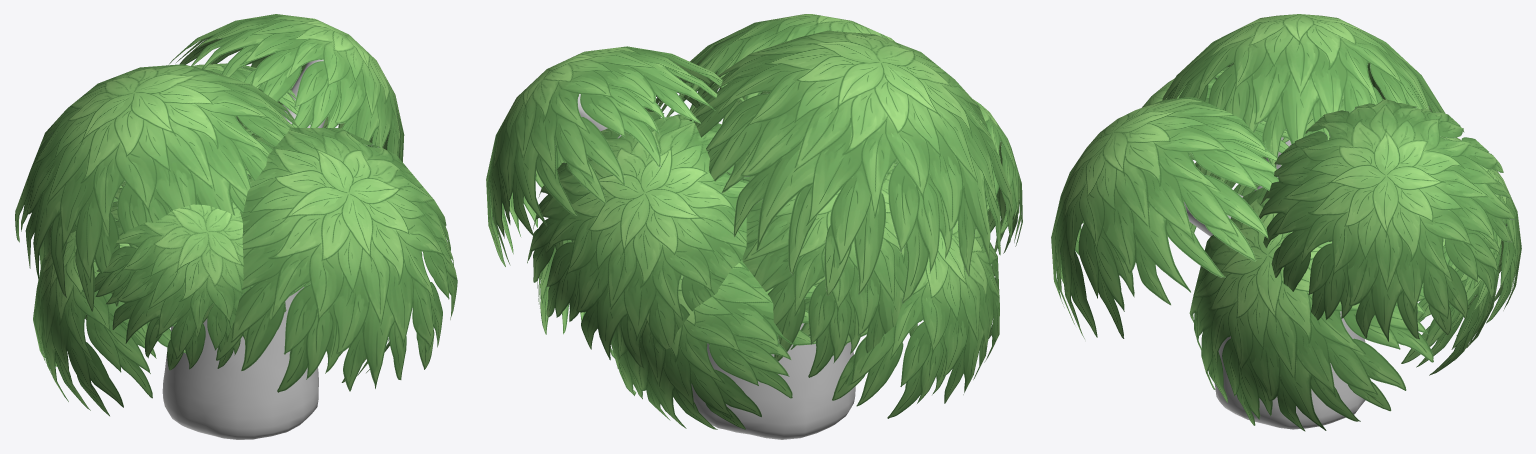
File: Bush_FULL_Model_v001.fbx
3 views of the same model, side by side, from view 1: azimuth 30°, elevation 25°; view 2: azimuth 150°, elevation 25°; view 3: azimuth 270°, elevation 25° (orthographic). The views are drawn at different scales.
Visible parts, largest first — view 1: BushLeaves3, BushLeaves1, BushLeaves4, BushLeaves2, BushTrunk, BushLeaves8, BushLeaves6; view 2: BushLeaves1, BushLeaves6, BushLeaves2, BushLeaves9, BushLeaves8, BushLeaves5, BushTrunk, BushLeaves3, BushLeaves4, BushLeaves7; view 3: BushLeaves2, BushLeaves3, BushLeaves7, BushLeaves1, BushTrunk, BushLeaves9, BushLeaves6.
Boxes of the visible parts, <box> form: BushLeaves3: <box>203,127,457,392</box>; BushLeaves1: <box>15,64,298,311</box>; BushLeaves4: <box>94,182,294,370</box>; BushLeaves2: <box>169,14,404,162</box>; BushTrunk: <box>162,59,325,439</box>; BushLeaves8: <box>33,231,185,416</box>; BushLeaves6: <box>192,63,328,124</box>; BushLeaves1: <box>689,30,1012,303</box>; BushLeaves6: <box>527,111,748,368</box>; BushLeaves2: <box>486,46,744,266</box>; BushLeaves9: <box>610,179,816,429</box>; BushLeaves8: <box>790,221,999,418</box>; BushLeaves5: <box>726,160,917,377</box>; BushTrunk: <box>577,94,855,439</box>; BushLeaves3: <box>655,14,894,124</box>; BushLeaves4: <box>969,99,1022,253</box>; BushLeaves7: <box>537,123,721,334</box>; BushLeaves2: <box>1259,99,1516,341</box>; BushLeaves3: <box>1051,97,1289,338</box>; BushLeaves7: <box>1189,187,1445,431</box>; BushLeaves1: <box>1162,14,1445,175</box>; BushTrunk: <box>1184,137,1365,429</box>; BushLeaves9: <box>1401,248,1498,375</box>; BushLeaves6: <box>1440,136,1521,323</box>.
Size of the model in its own units: 85.71 by 72.91 by 89.45.
